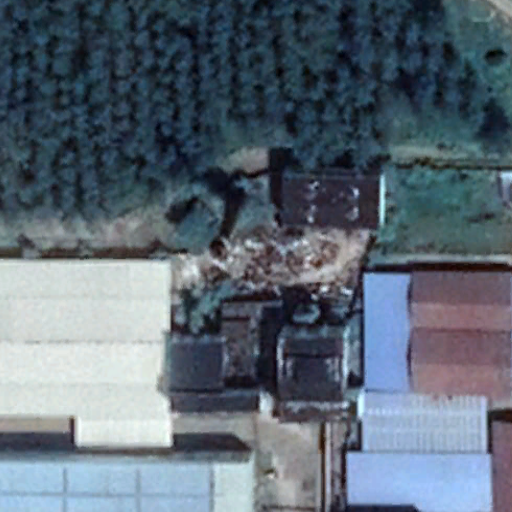msw: (169, 221, 359, 302)
